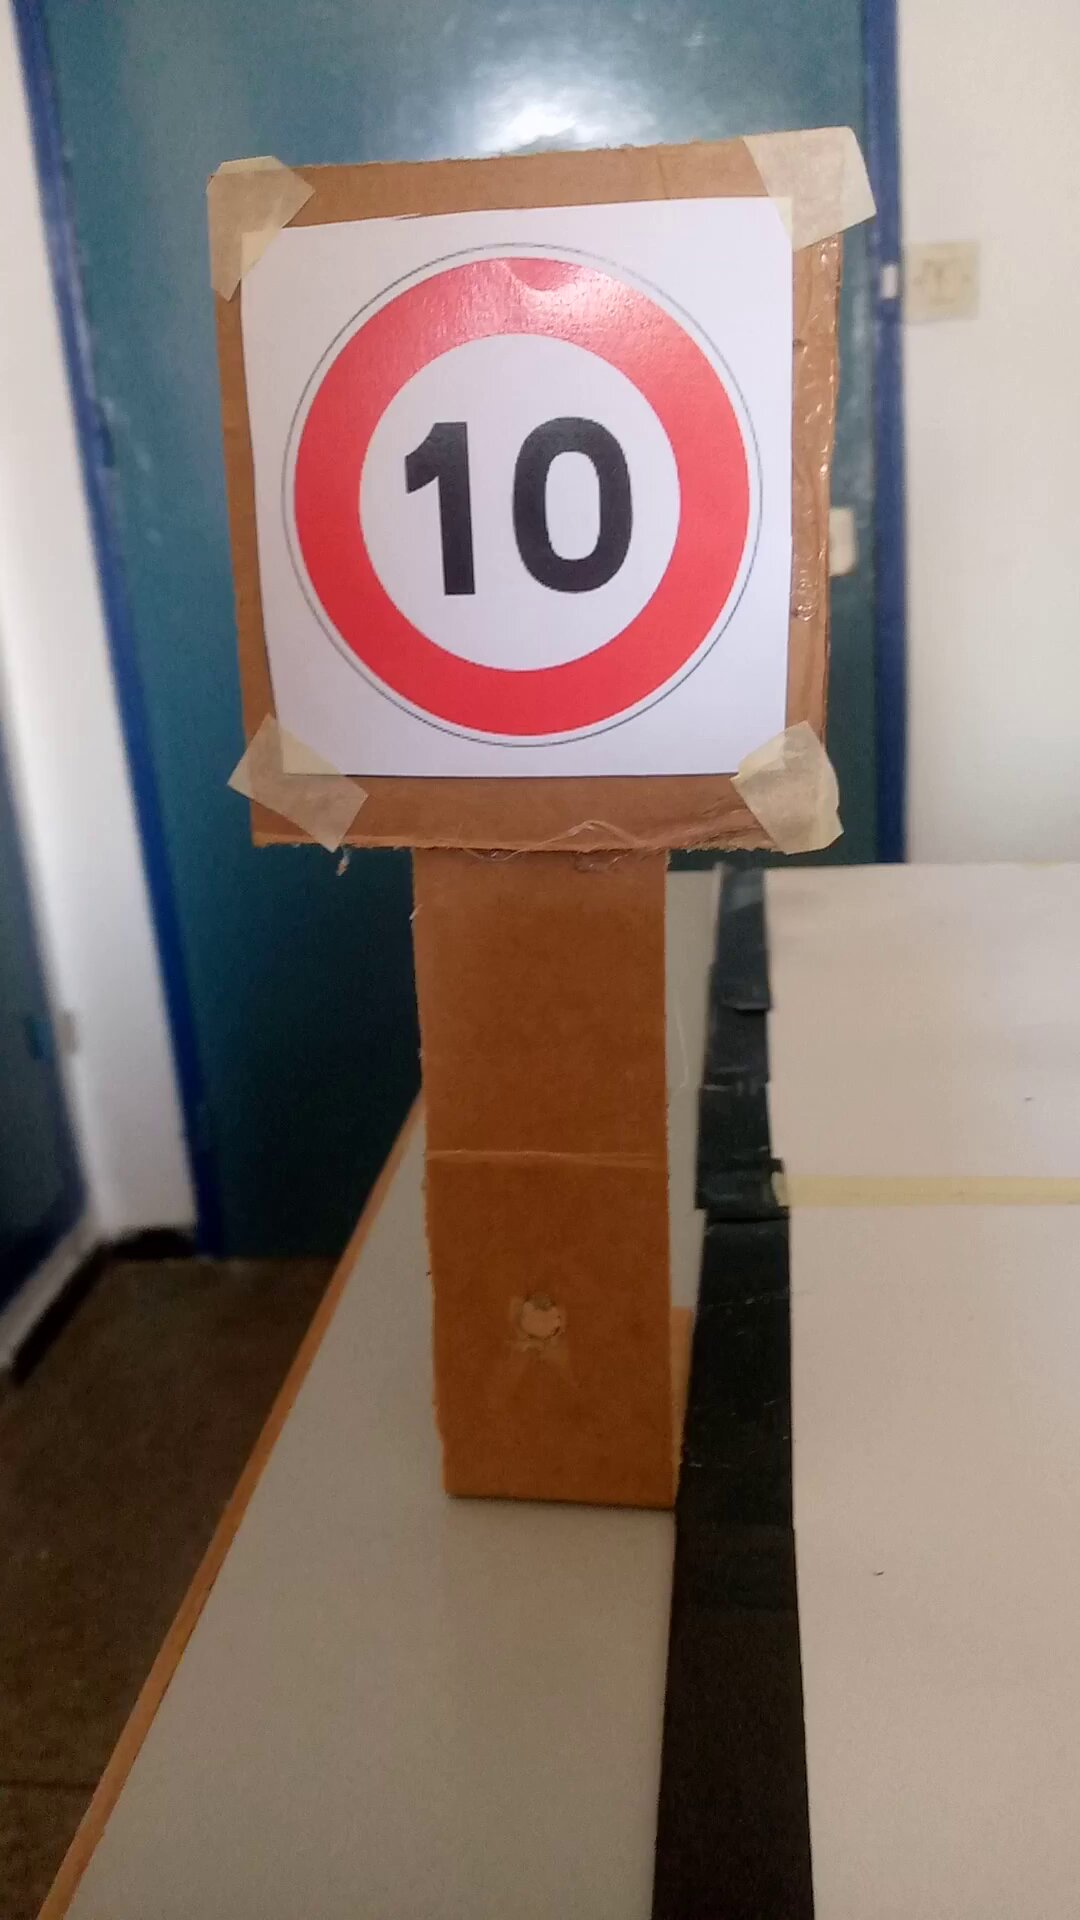panel011: (237, 214, 804, 781)
